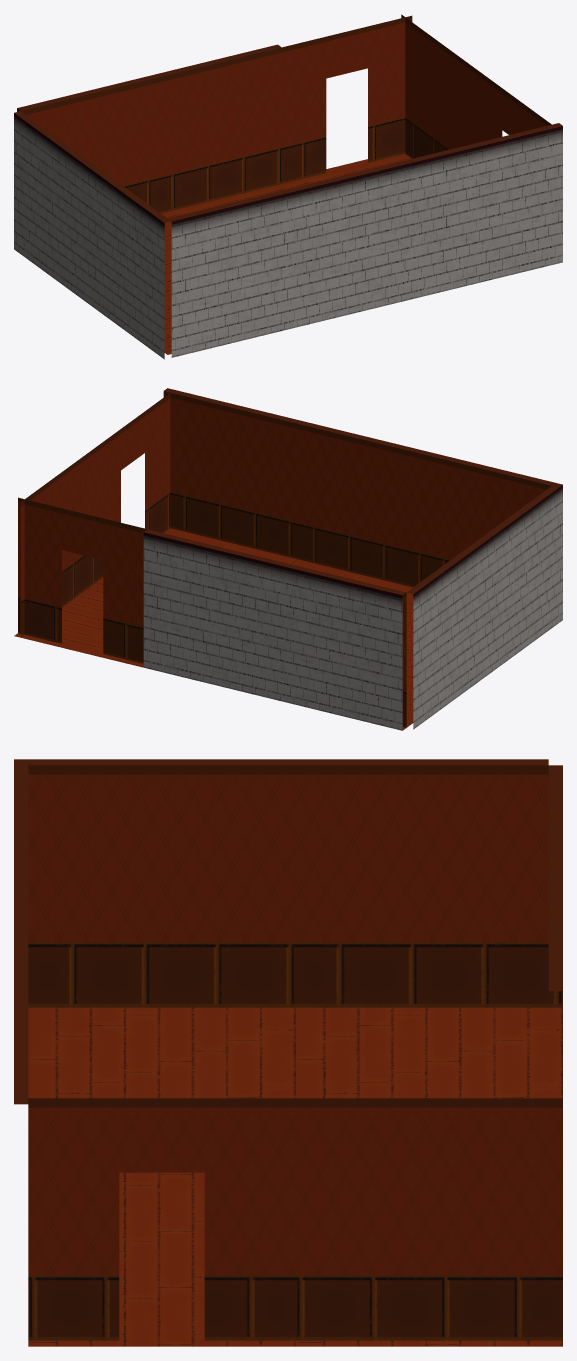
Rendered from boss room.fbx.
The picture shows the model from 3 angles, top to bottom: view 1: azimuth 30°, elevation 25°; view 2: azimuth 150°, elevation 25°; view 3: azimuth 270°, elevation 25°; orthographic projection. The views are drawn at different scales.
Visible parts, largest first — view 1: boss_room; view 2: boss_room; view 3: boss_room.
Boxes of the visible parts, x1=… form: boss_room: x1=14, y1=14, x2=562, y2=359; boss_room: x1=14, y1=388, x2=562, y2=730; boss_room: x1=14, y1=759, x2=562, y2=1346.
Size of the model in its own units: 611 by 200 by 411.
